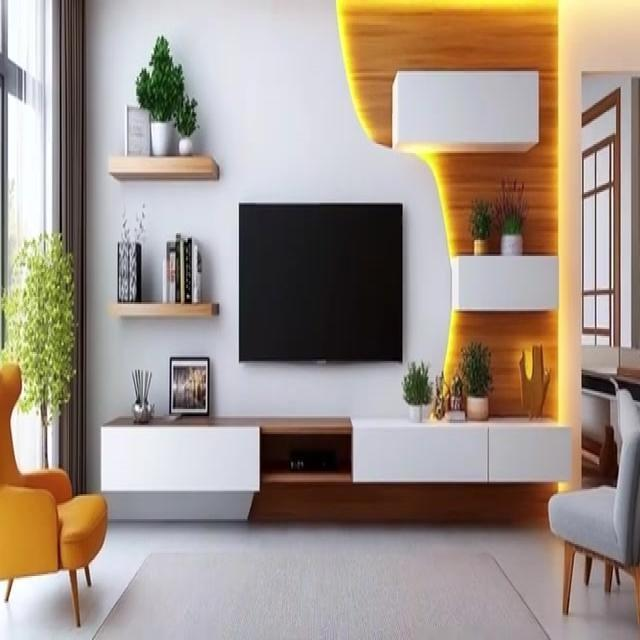obstacle: (96, 409, 574, 492), (0, 360, 107, 628)
